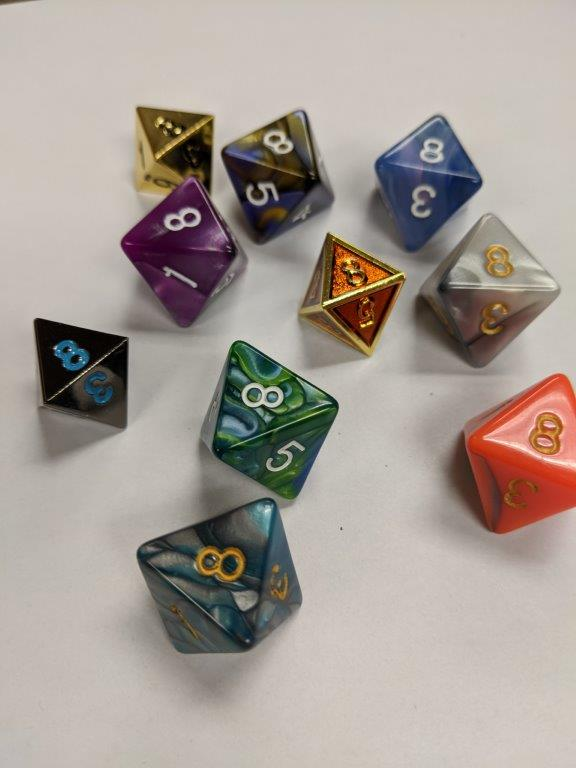d8-8: (139, 493, 303, 654), (411, 213, 563, 367), (199, 337, 338, 499), (118, 173, 248, 330), (461, 369, 576, 535), (374, 108, 485, 249), (222, 103, 334, 239), (292, 230, 406, 358), (29, 313, 131, 429), (131, 100, 214, 200)
